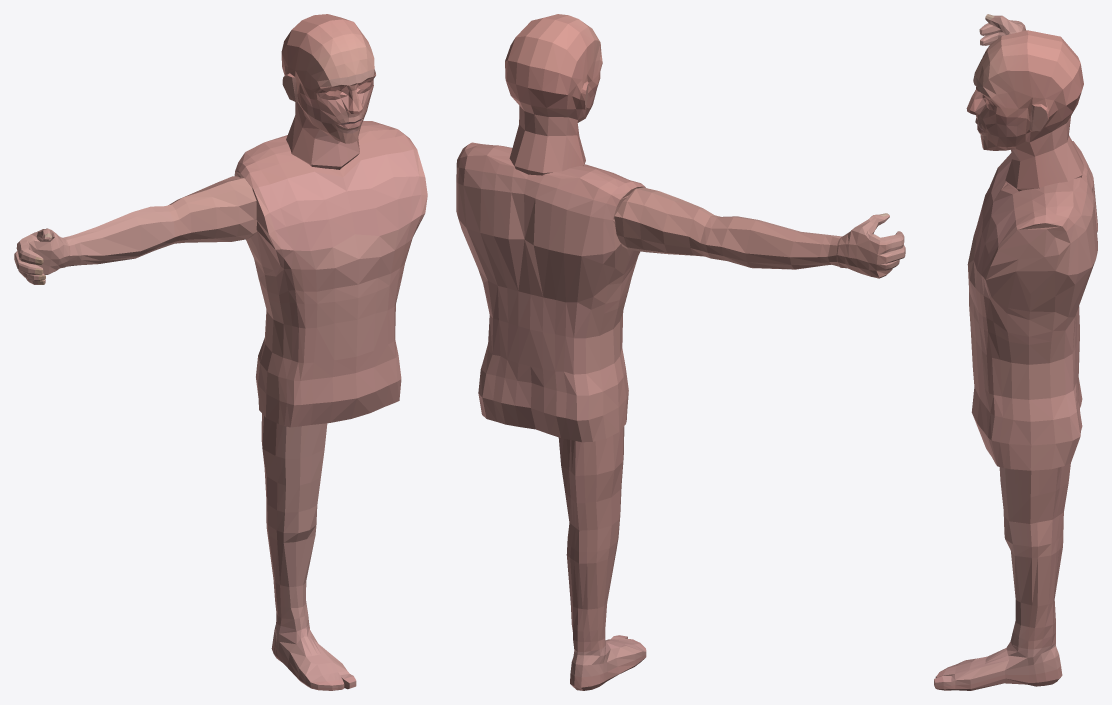
The model's file is baseSkinTonePink.glb.
The picture shows the model from 3 angles, left to right: view 1: azimuth 30°, elevation 25°; view 2: azimuth 150°, elevation 25°; view 3: azimuth 270°, elevation 25°; orthographic projection. The views are drawn at different scales.
Visible parts, largest first — view 1: nakedTorsoSkinTonePink, nakedFaceSkinTonePink, nakedUpperLegSkinTonePink, nakedLowerLegSkinTonePink, nakedUpperArmSkinTonePink, nakedLowerArmSkinTonePink, nakedFootSkinTonePink, nakedHandArmSkinTonePink; view 2: nakedTorsoSkinTonePink, nakedFaceSkinTonePink, nakedLowerArmSkinTonePink, nakedUpperArmSkinTonePink, nakedUpperLegSkinTonePink, nakedLowerLegSkinTonePink, nakedHandArmSkinTonePink, nakedFootSkinTonePink; view 3: nakedTorsoSkinTonePink, nakedFaceSkinTonePink, nakedLowerLegSkinTonePink, nakedFootSkinTonePink, nakedUpperLegSkinTonePink, nakedHandArmSkinTonePink.
Part boxes in pixels (x1,y1,x2,y2): nakedTorsoSkinTonePink: (234,120,427,427); nakedFaceSkinTonePink: (281,14,375,169); nakedUpperLegSkinTonePink: (261,414,327,512); nakedLowerLegSkinTonePink: (266,499,317,629); nakedUpperArmSkinTonePink: (165,176,256,245); nakedLowerArmSkinTonePink: (62,206,174,266); nakedFootSkinTonePink: (271,622,356,690); nakedHandArmSkinTonePink: (14,228,70,284); nakedTorsoSkinTonePink: (456,142,645,442); nakedFaceSkinTonePink: (505,14,602,175); nakedLowerArmSkinTonePink: (706,216,841,269); nakedUpperArmSkinTonePink: (614,187,720,258); nakedUpperLegSkinTonePink: (558,426,624,530); nakedLowerLegSkinTonePink: (566,516,620,652); nakedHandArmSkinTonePink: (836,213,905,278); nakedFootSkinTonePink: (570,635,646,690); nakedTorsoSkinTonePink: (967,141,1097,470); nakedFaceSkinTonePink: (966,30,1084,191); nakedLowerLegSkinTonePink: (1003,512,1063,649); nakedFootSkinTonePink: (934,641,1062,690); nakedUpperLegSkinTonePink: (999,462,1070,523); nakedHandArmSkinTonePink: (979,14,1025,52).
Size of the model in its own units: 1.31 by 1.94 by 0.4338.
